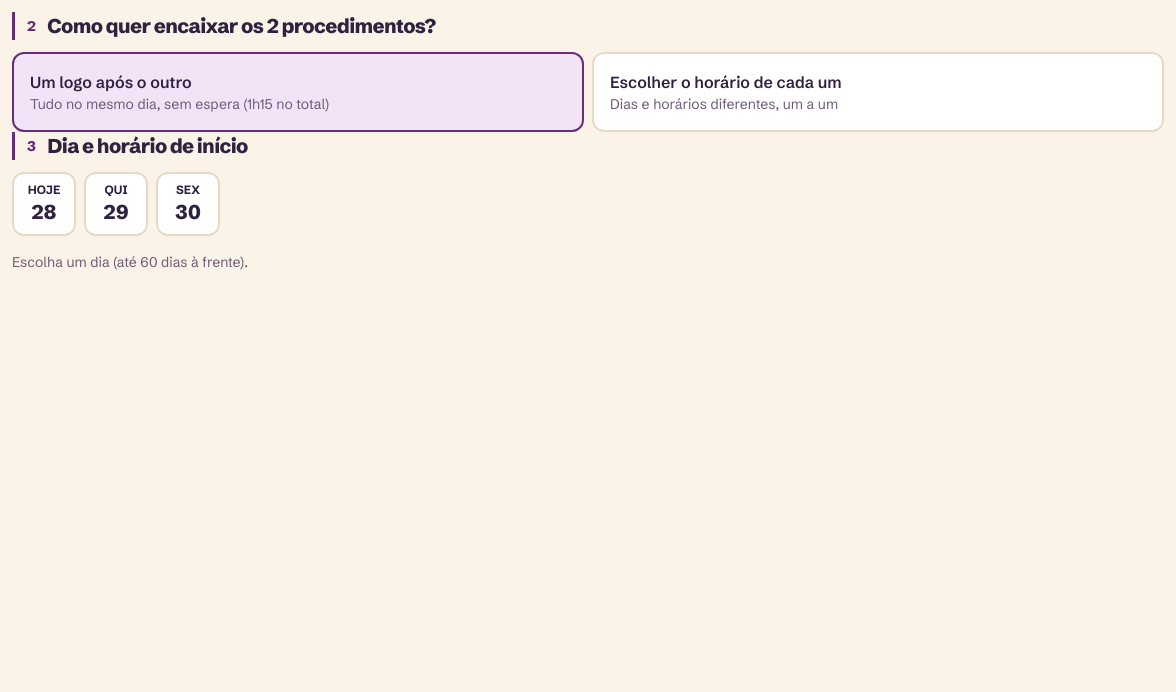
it: CartFlow: horário de cada um › escolhe dia e horário de cada um; o segundo não pode bater com o primeiro
The image size is (1176, 692).
Click the radio button labelled "Escolher o horário de cada um".
click(726, 82)  # box [592,52,1164,132]
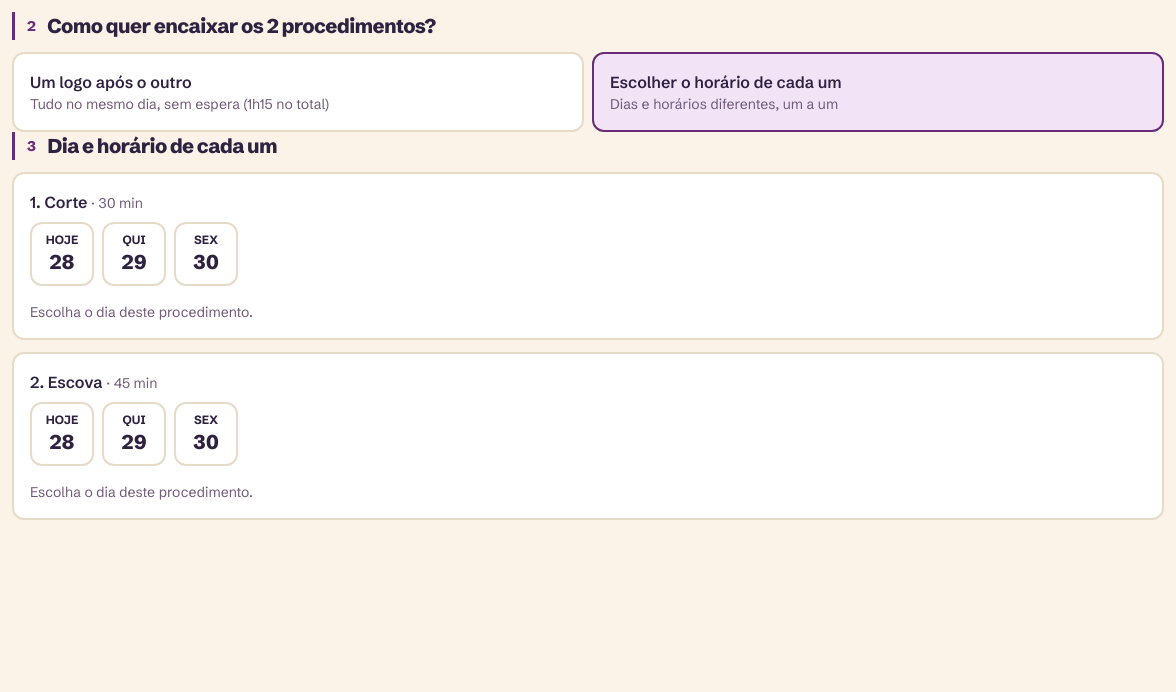
Click the button with aria-label "Dia de Corte 29/10".
click(134, 254)  # box [102,222,166,286]
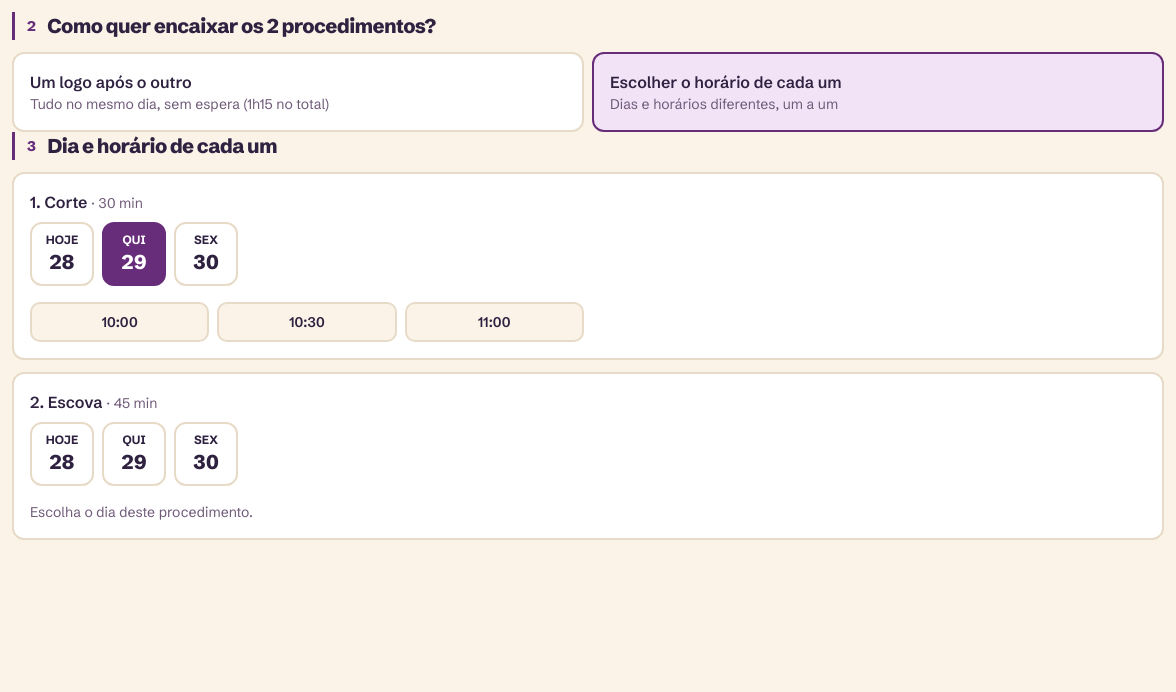
Click the button named "Corte às 10:00".
click(120, 322)  # box [30,302,209,342]
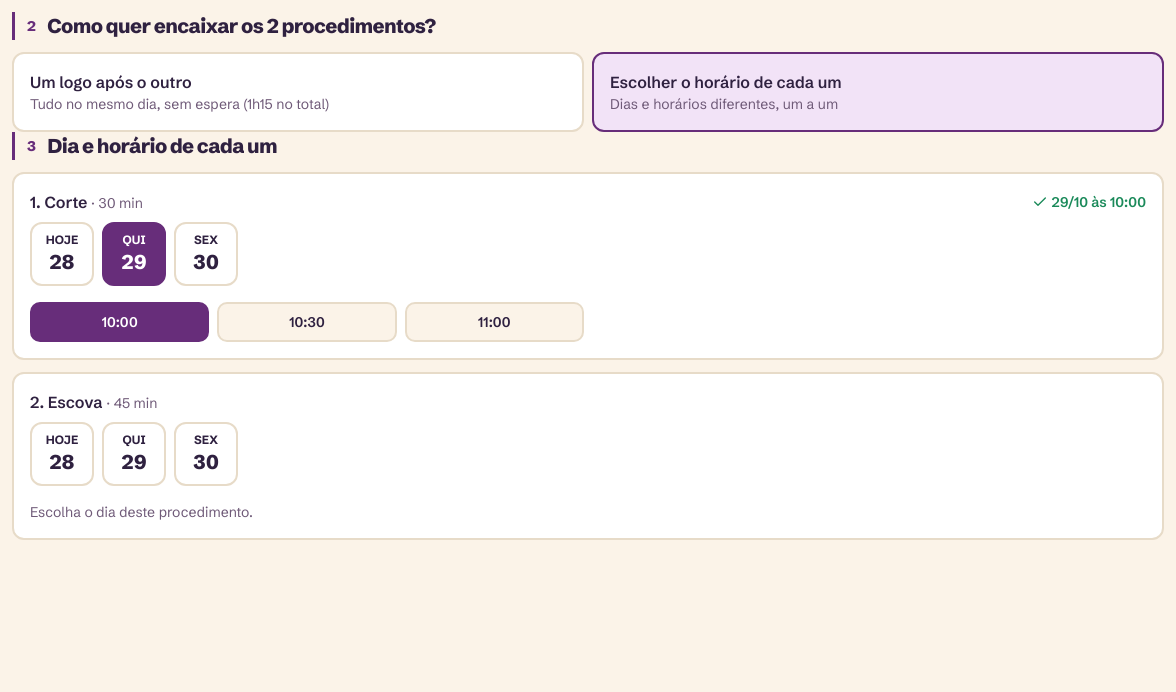
Expected: the text "Seus dados" is not shown
Expected: the text "29/10 às 10:00" is shown, [1032,192,1146,212]
Click the button with aria-label "Dia de Escova 29/10".
click(134, 454)  # box [102,422,166,486]
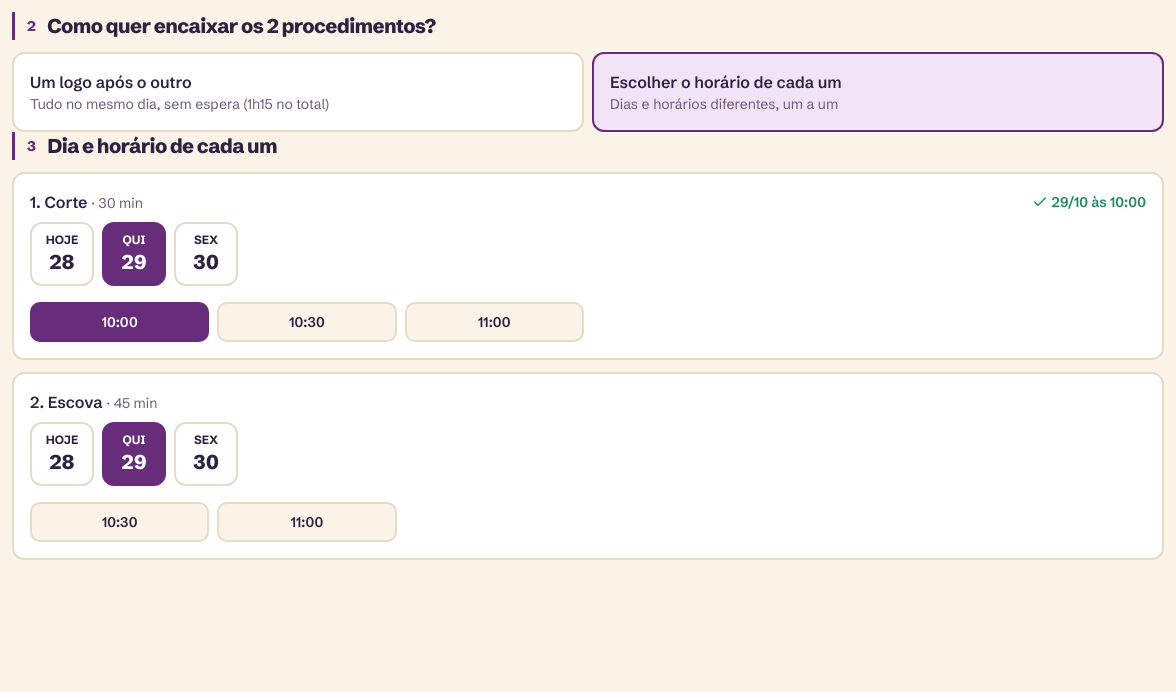
Expected: the button named "Escova às 10:30" is shown
Click the button named "Escova às 10:30".
click(120, 522)  # box [30,502,209,542]
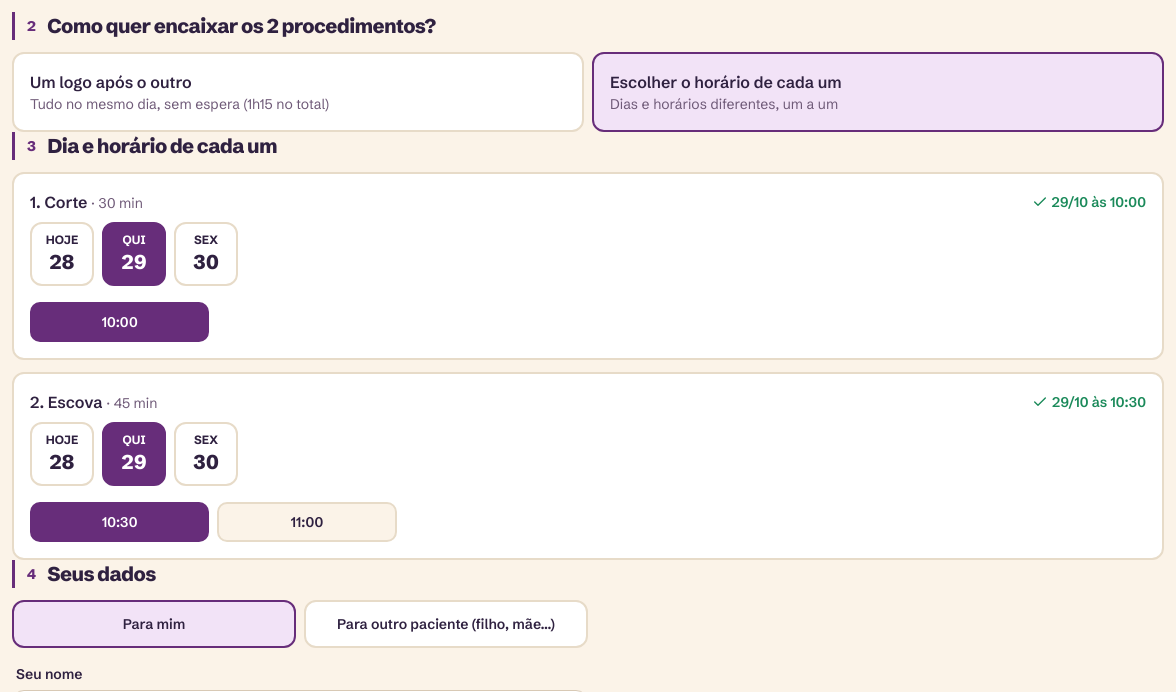
Expected: the heading "4 Seus dados" is shown, [12,560,1164,588]
